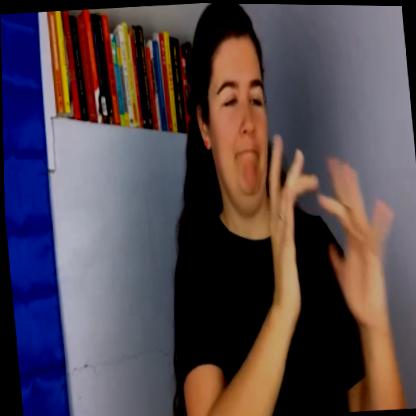Internet: (255, 133, 409, 340)
